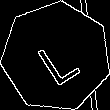L_NW: (29, 27, 83, 86)
